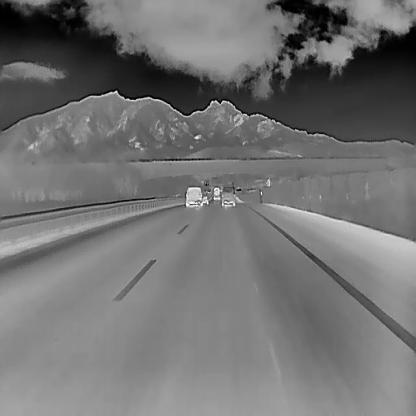car: (186, 184, 202, 208), (220, 184, 235, 207), (201, 190, 209, 205)
truck: (212, 185, 220, 201)
